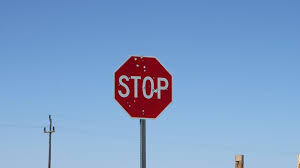Stop: (115, 44, 177, 125)
